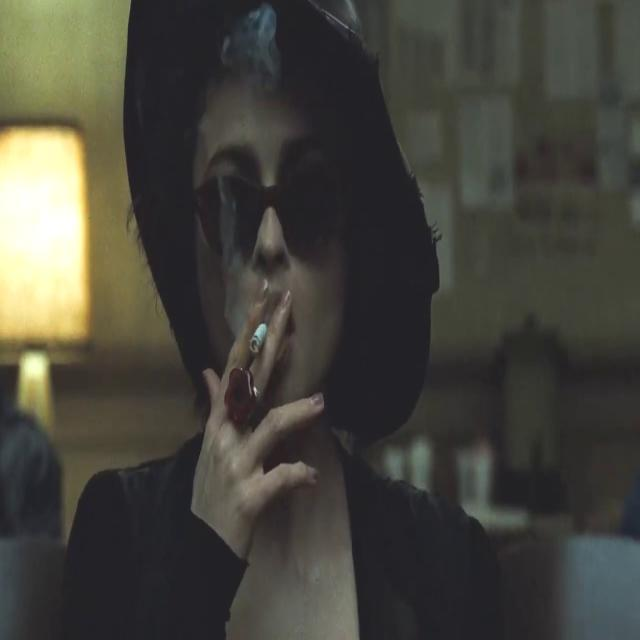Smooking: (245, 313, 269, 357)
